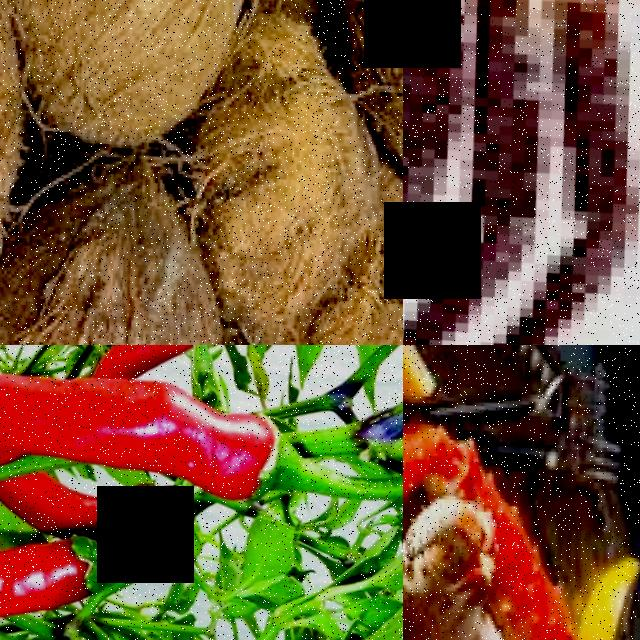chilli: (0, 345, 290, 508), (0, 509, 137, 634), (97, 345, 375, 377)
coconut: (0, 142, 249, 345), (0, 0, 272, 136), (326, 0, 403, 190)
crab: (403, 0, 640, 269), (403, 486, 632, 640)
